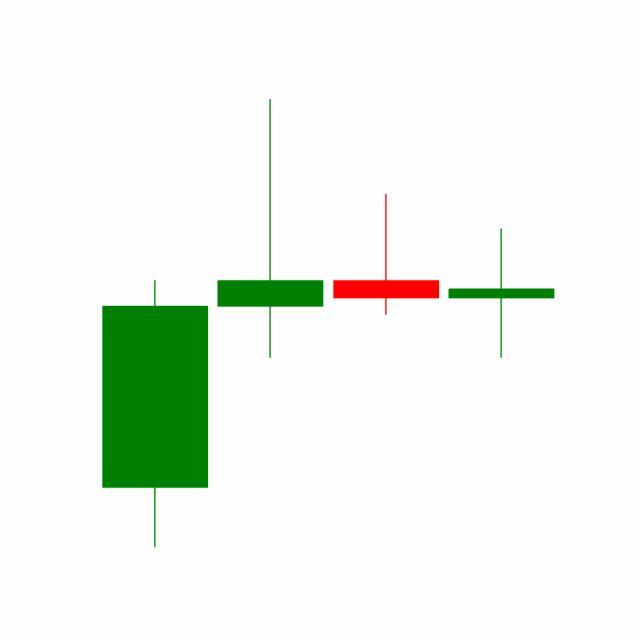Spinning Top: (444, 228, 560, 361)
